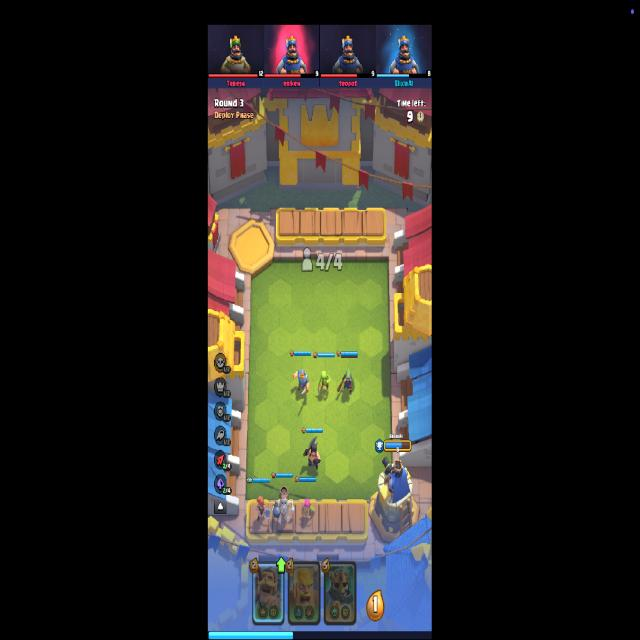bandit: (337, 370, 356, 398)
card_barbarian: (287, 560, 320, 626)
card_giant_skeleton: (323, 559, 356, 623)
card_knight: (252, 560, 284, 625)
executioner: (303, 436, 321, 472)
giant_skeleton: (273, 487, 295, 525)
goblin: (318, 371, 330, 394)
knight: (293, 368, 310, 398)
spear_goblin: (301, 498, 316, 523)
valkyrie: (256, 496, 272, 525)
